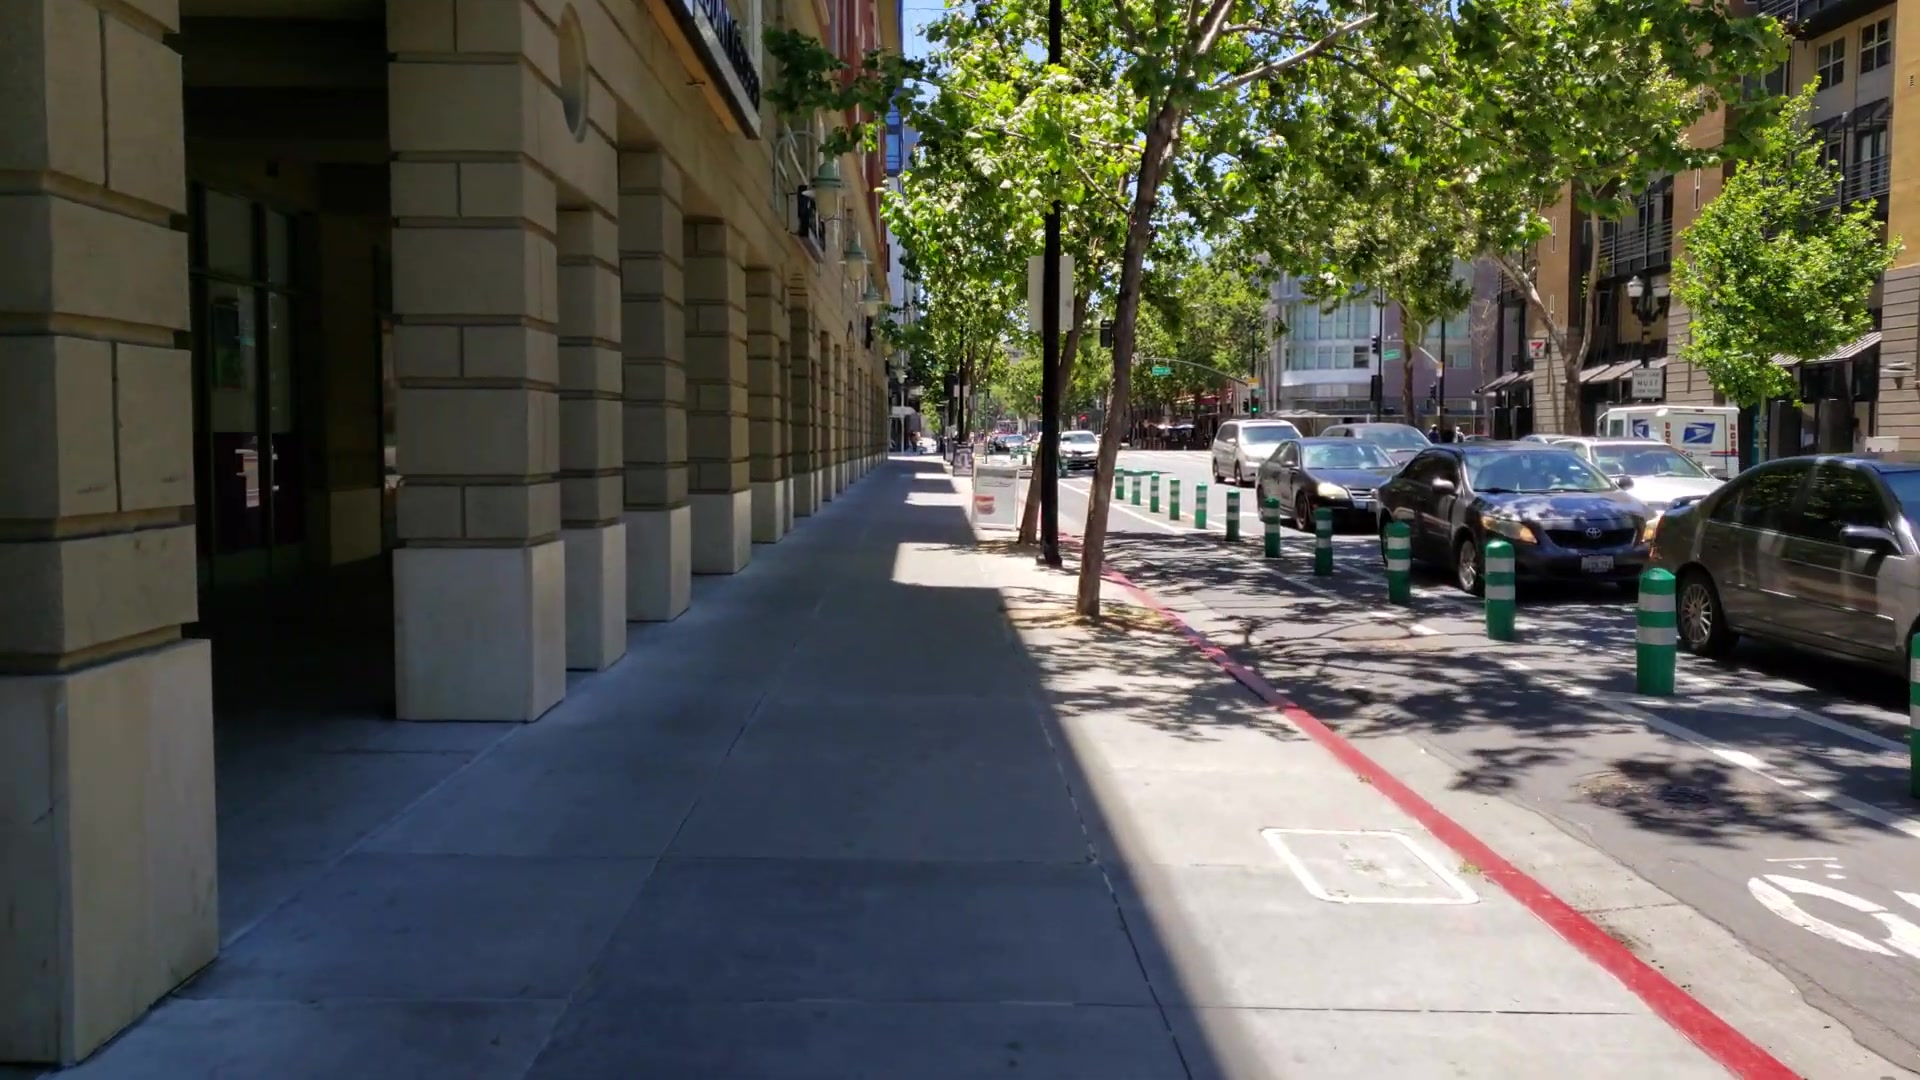vehicle: (1659, 455, 1920, 690), (1375, 440, 1658, 599), (1255, 436, 1378, 522), (1212, 419, 1298, 487)
